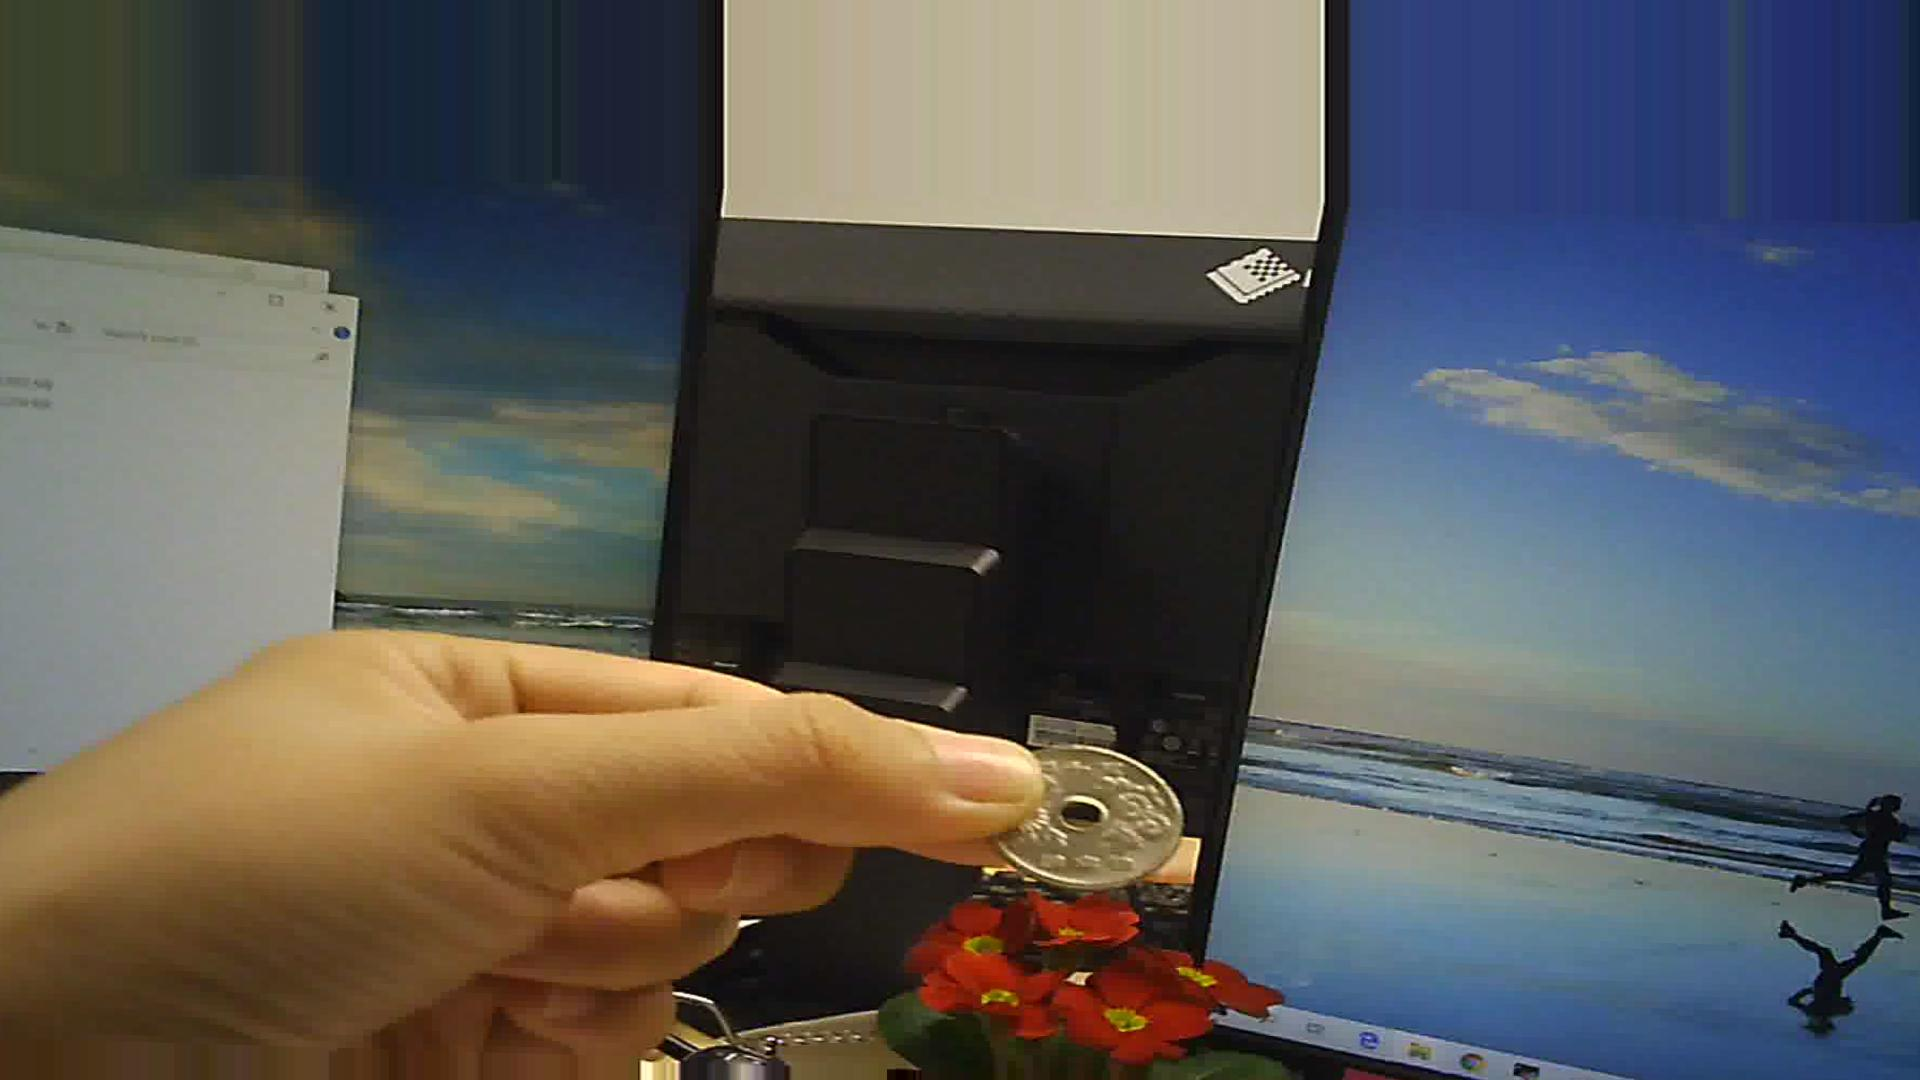50 Yen: (986, 737, 1188, 894)
